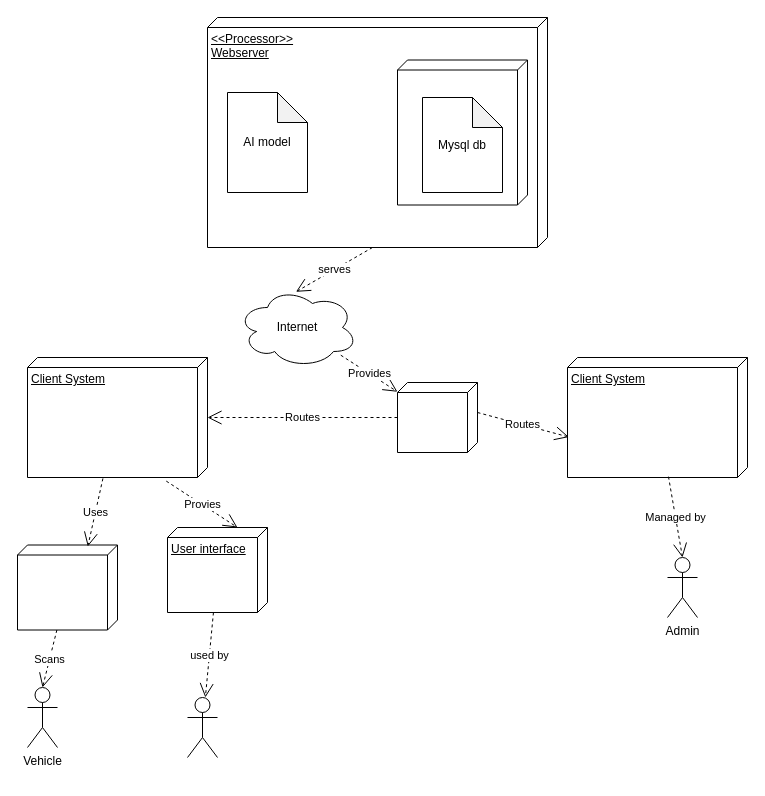
This 765x796 diagram has some shape labels left out. The shapes that lost their labels are listed below. From the top down, each one's box as (x1, y1, x2, y2) in pixels, then its label:
(396, 59, 528, 205): Database system
(396, 382, 478, 452): Modem
(16, 544, 118, 630): Camera
(186, 696, 218, 758): Security
